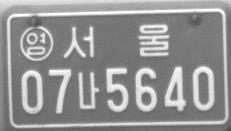0: (20, 68, 44, 115), (191, 65, 215, 111)
4: (163, 65, 186, 112)
5: (104, 66, 129, 112)
6: (134, 67, 158, 113)
7: (47, 68, 72, 114)
나: (76, 71, 100, 110)
서울_D: (63, 23, 169, 58)
영: (19, 25, 54, 62)
